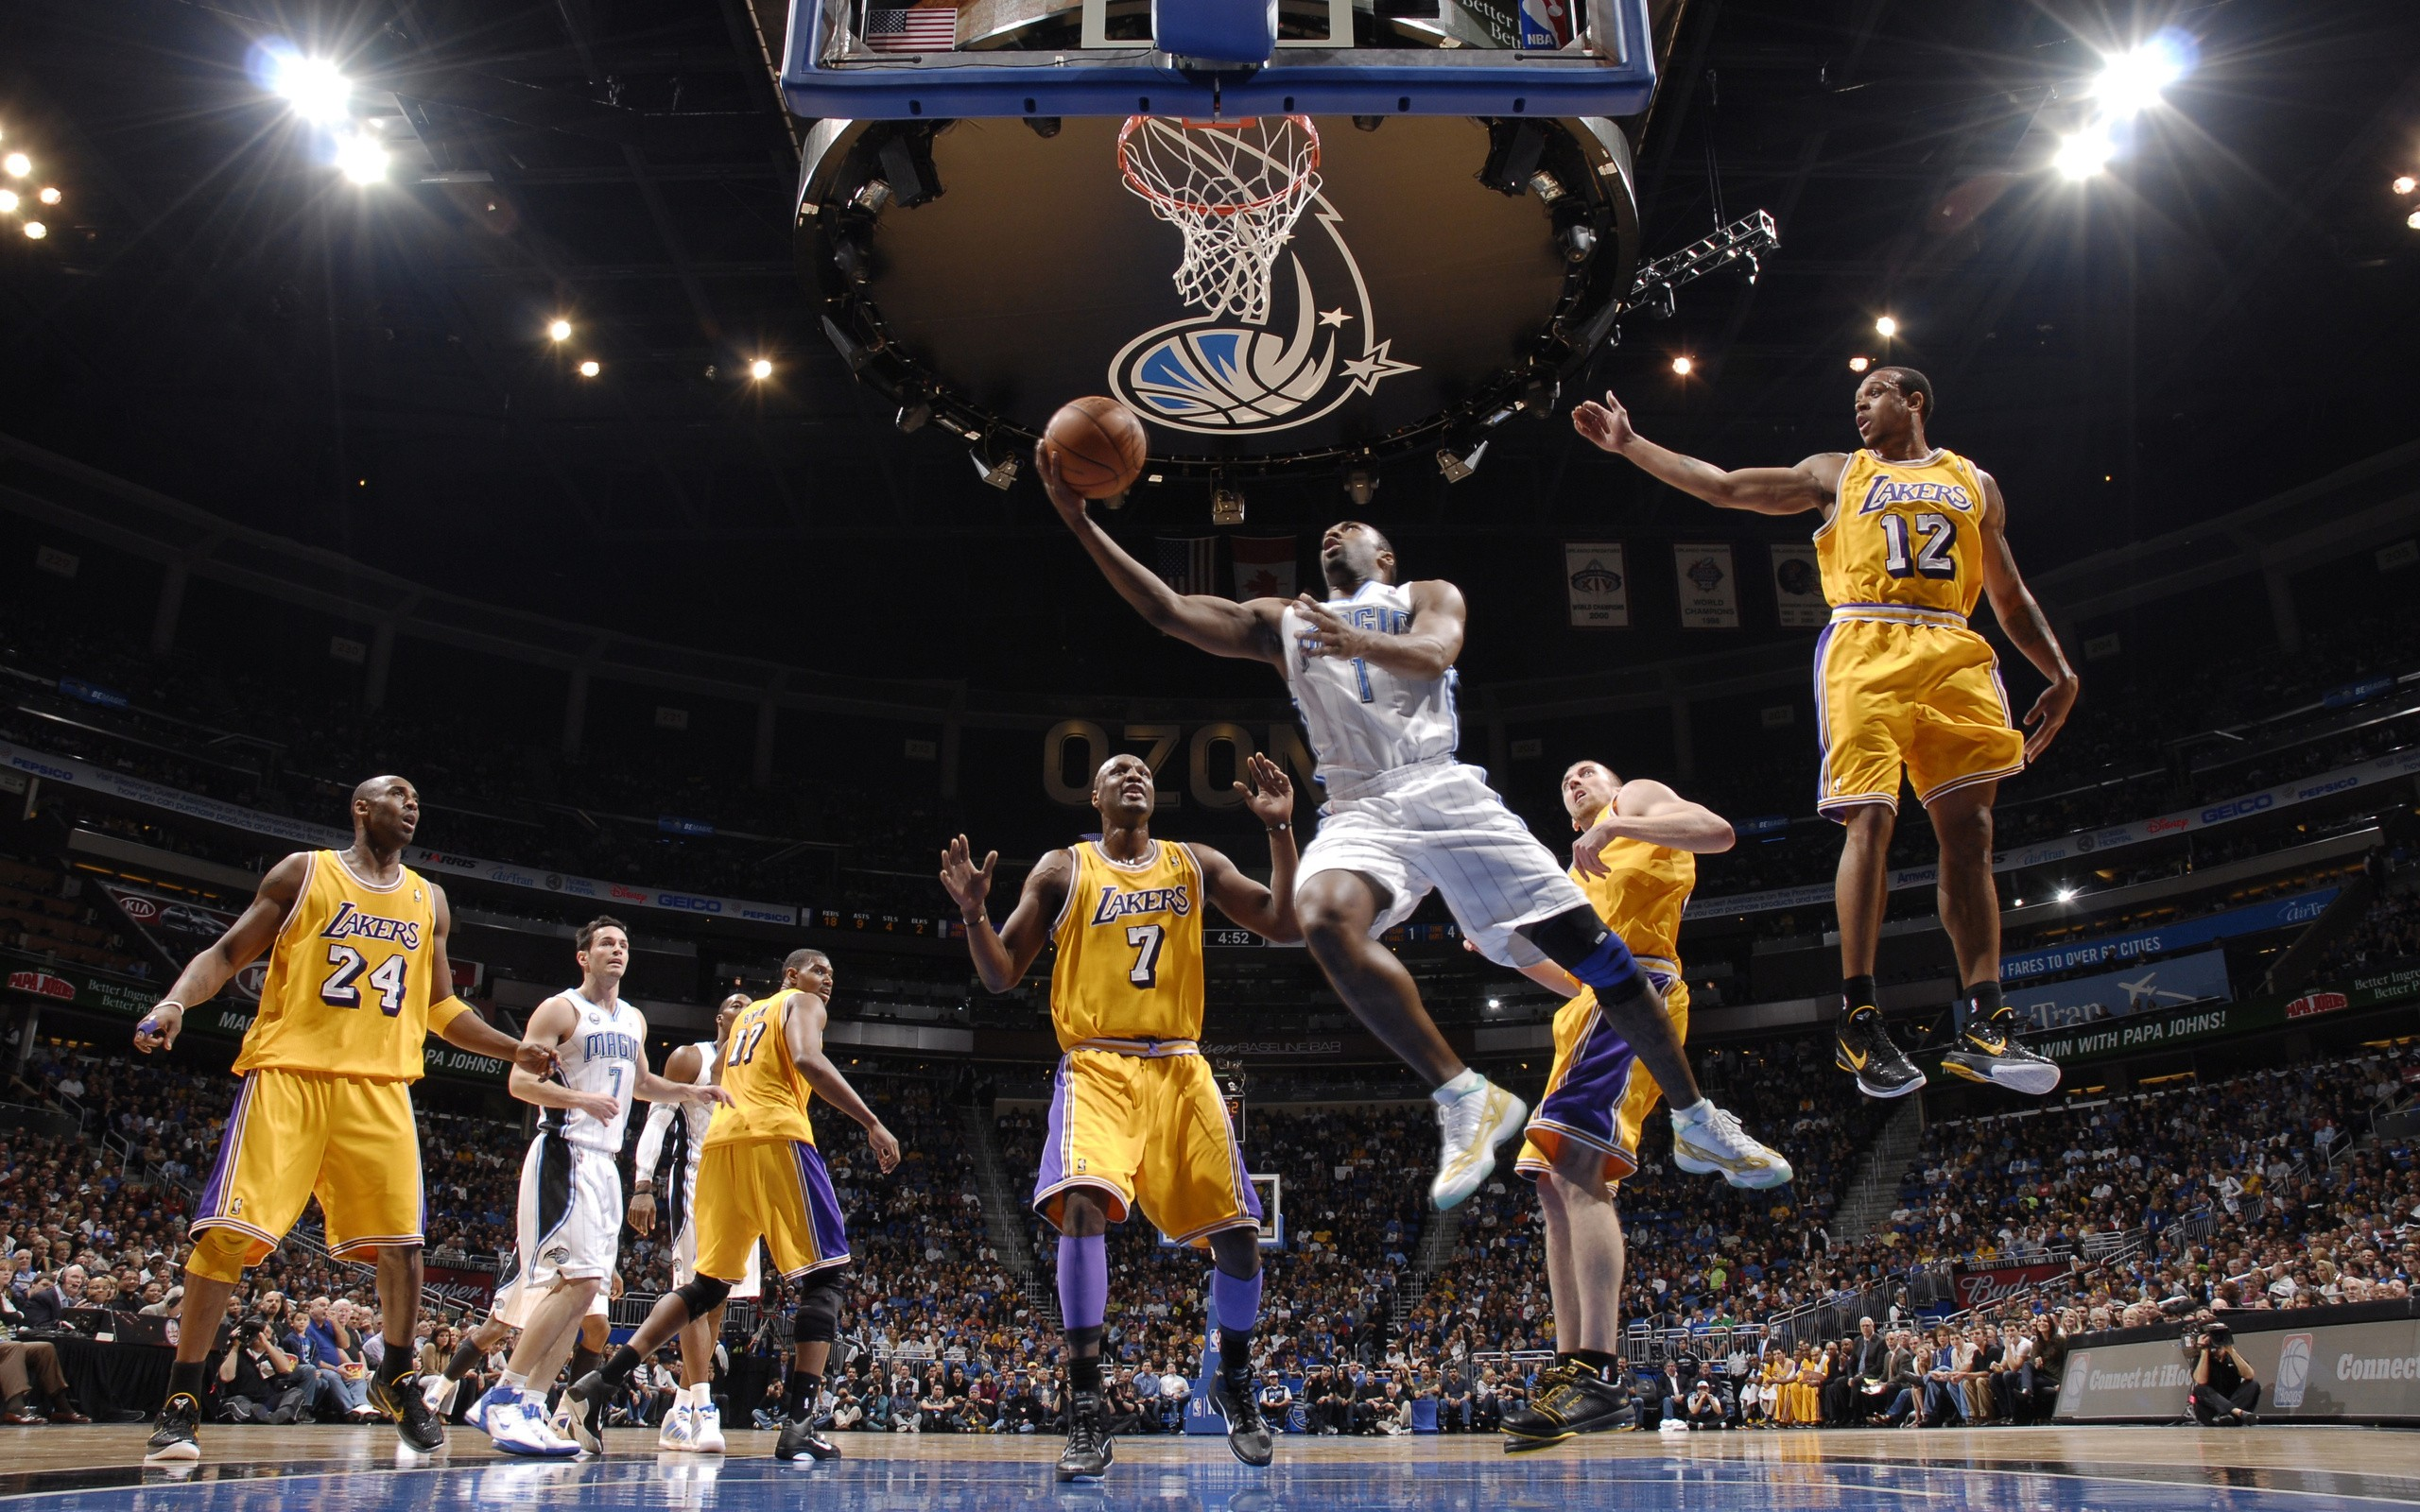ball: (1035, 403, 1153, 508)
player: (1273, 537, 1637, 1158), (1803, 379, 2101, 1110), (1027, 767, 1294, 1435), (251, 764, 448, 1390), (640, 962, 866, 1458), (551, 947, 653, 1406)
